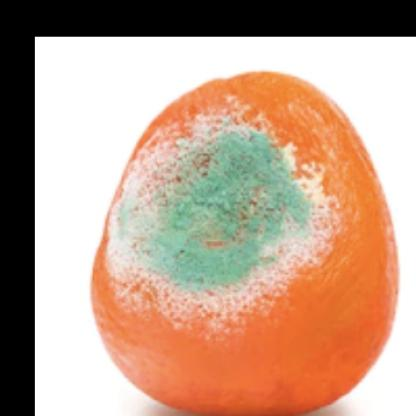rotten: (90, 69, 399, 416)
